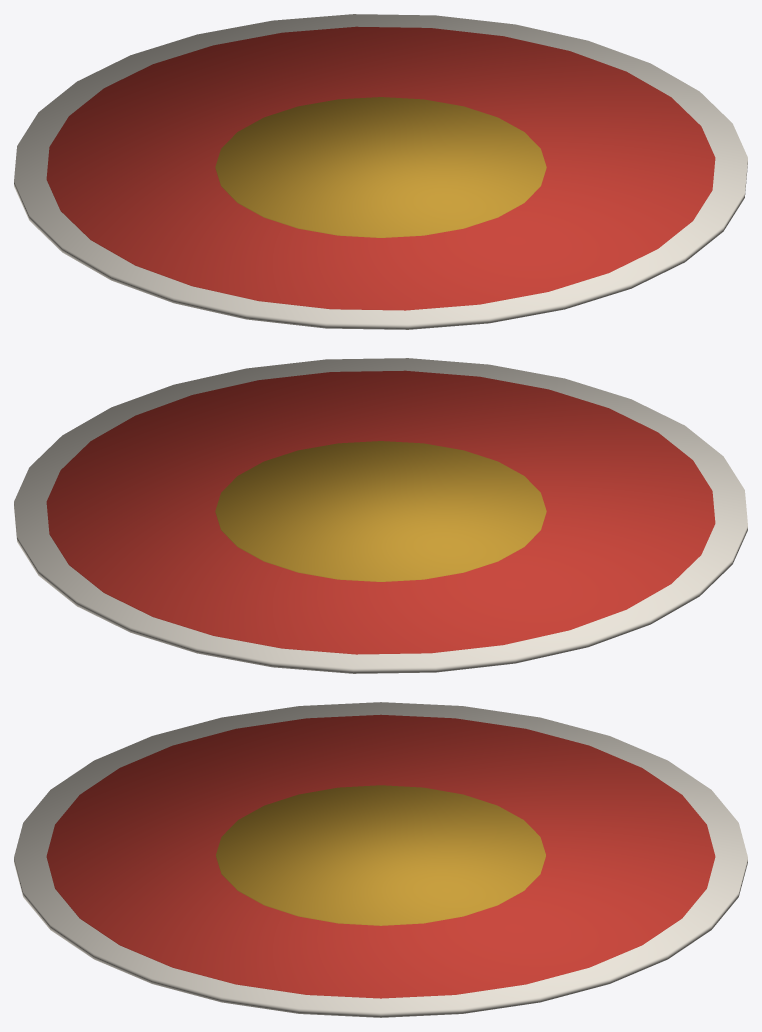
File: rug_round.glb
3 views of the same model, one above another, from view 1: azimuth 30°, elevation 25°; view 2: azimuth 150°, elevation 25°; view 3: azimuth 270°, elevation 25° (orthographic).
Parts seen in each view (by area): view 1: rug_round; view 2: rug_round; view 3: rug_round.
Part boxes in pixels (x1,y1,x2,y2): rug_round: (14,14,747,329); rug_round: (14,358,747,673); rug_round: (14,702,747,1017).
Size of the model in its own units: 1.8 by 0.021 by 1.8.
